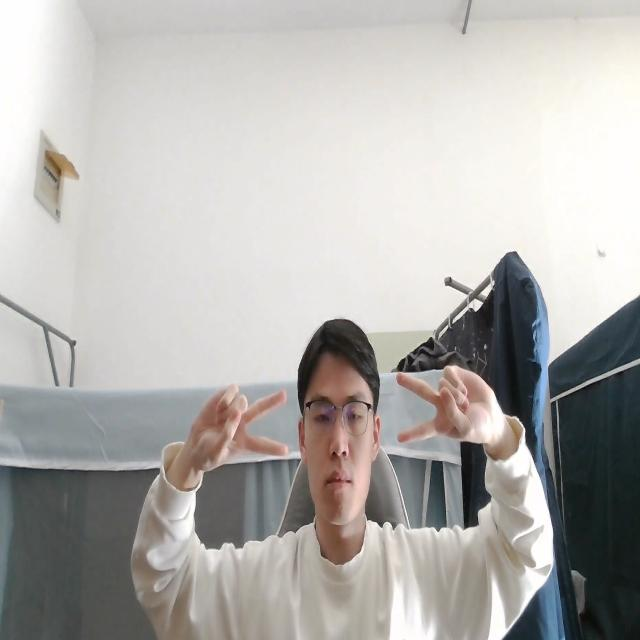yes: (176, 378, 298, 483), (390, 359, 509, 451)
